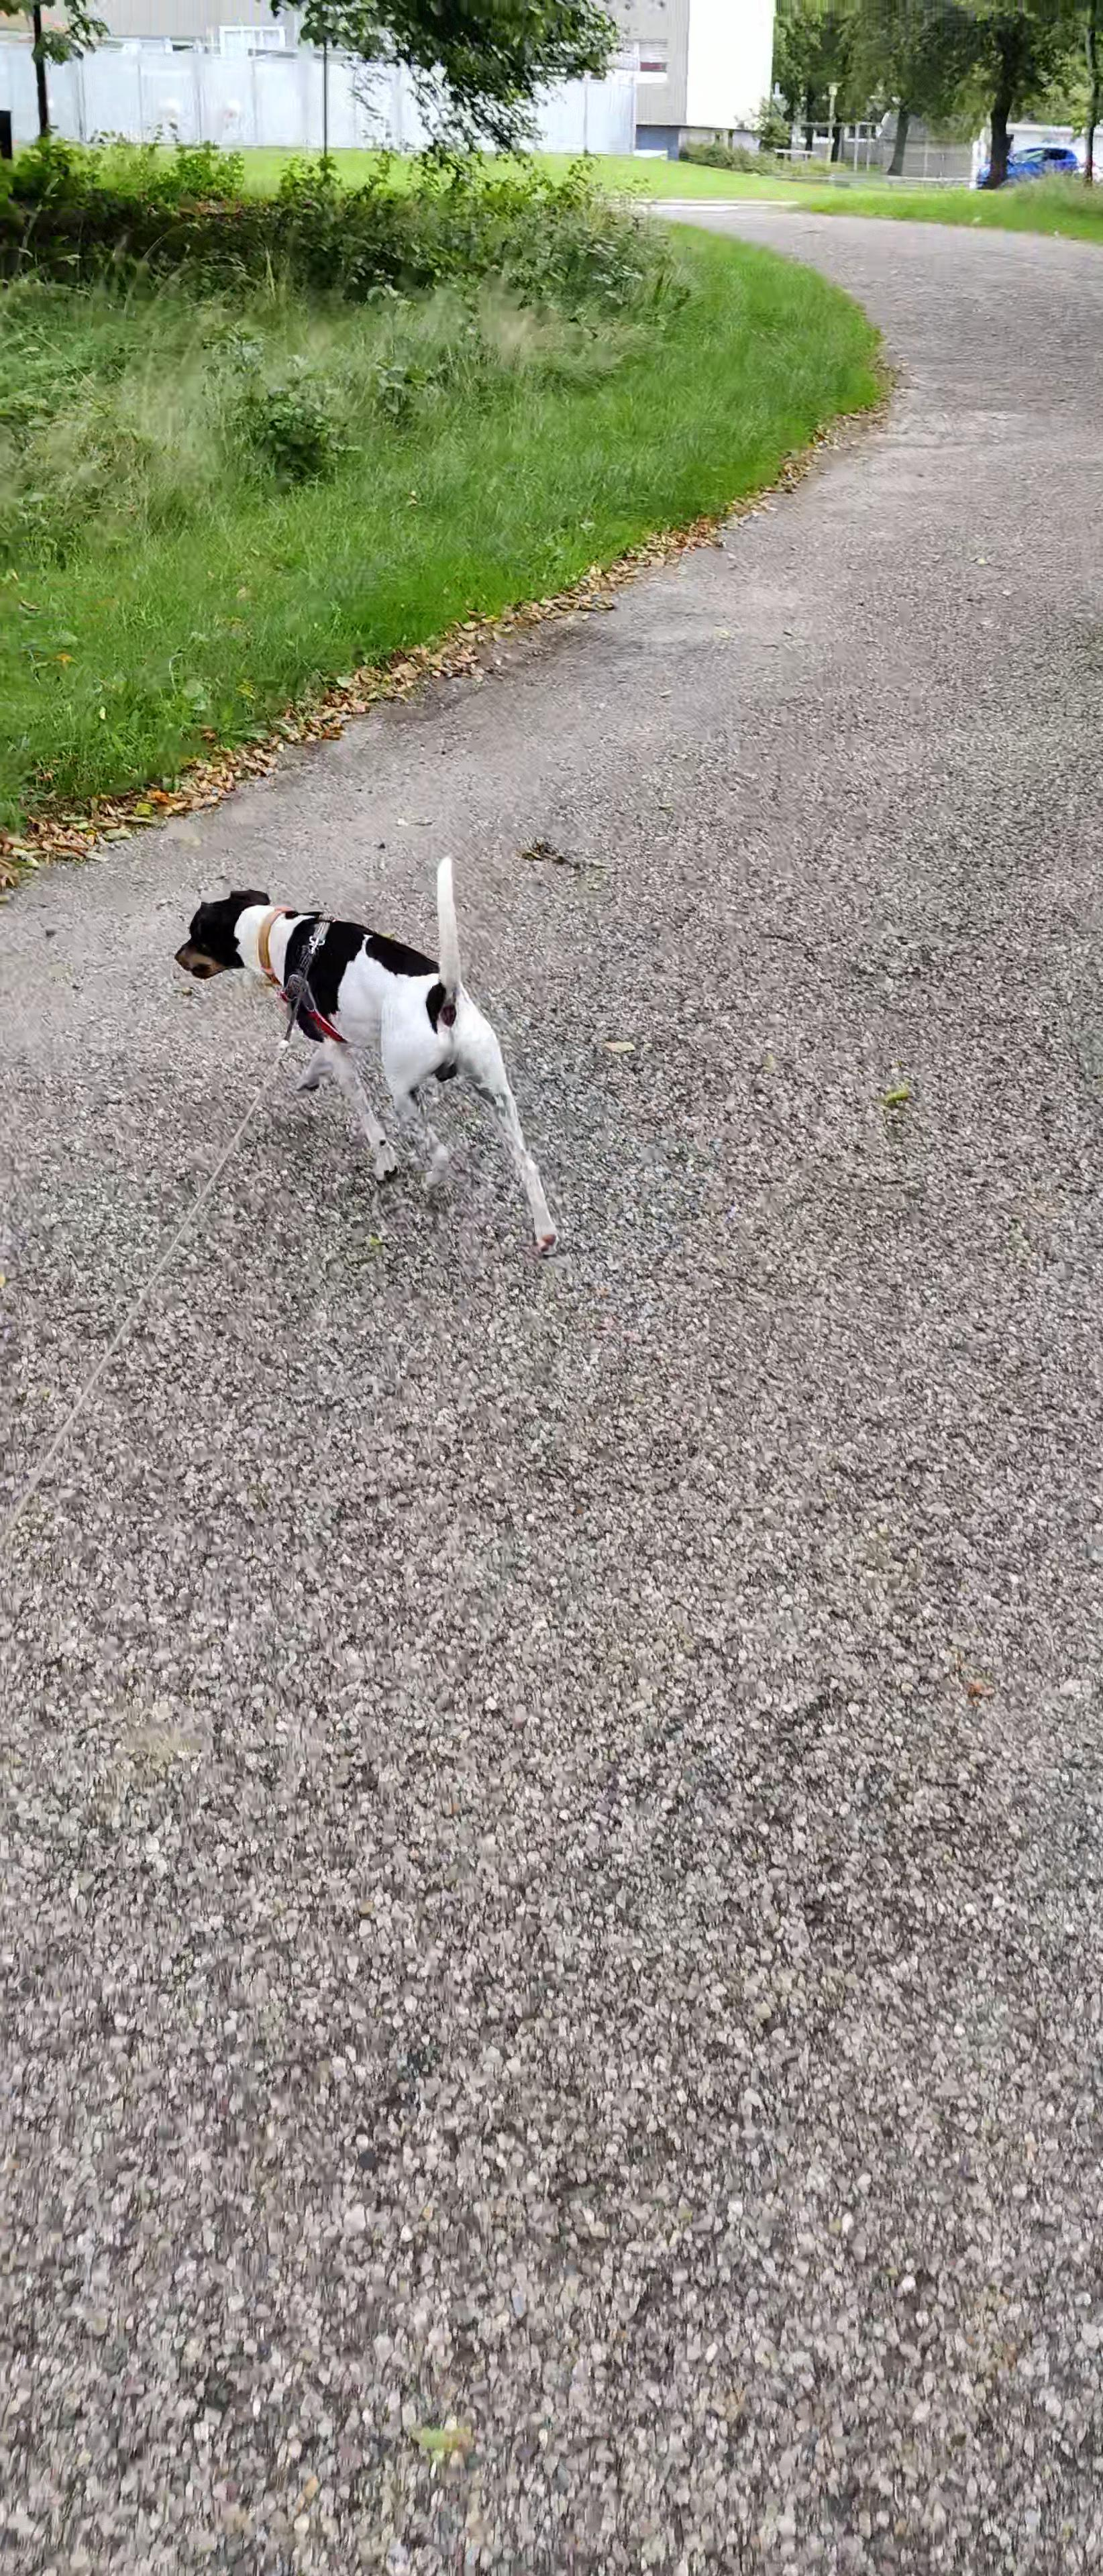Dog: (158, 846, 570, 1262)
